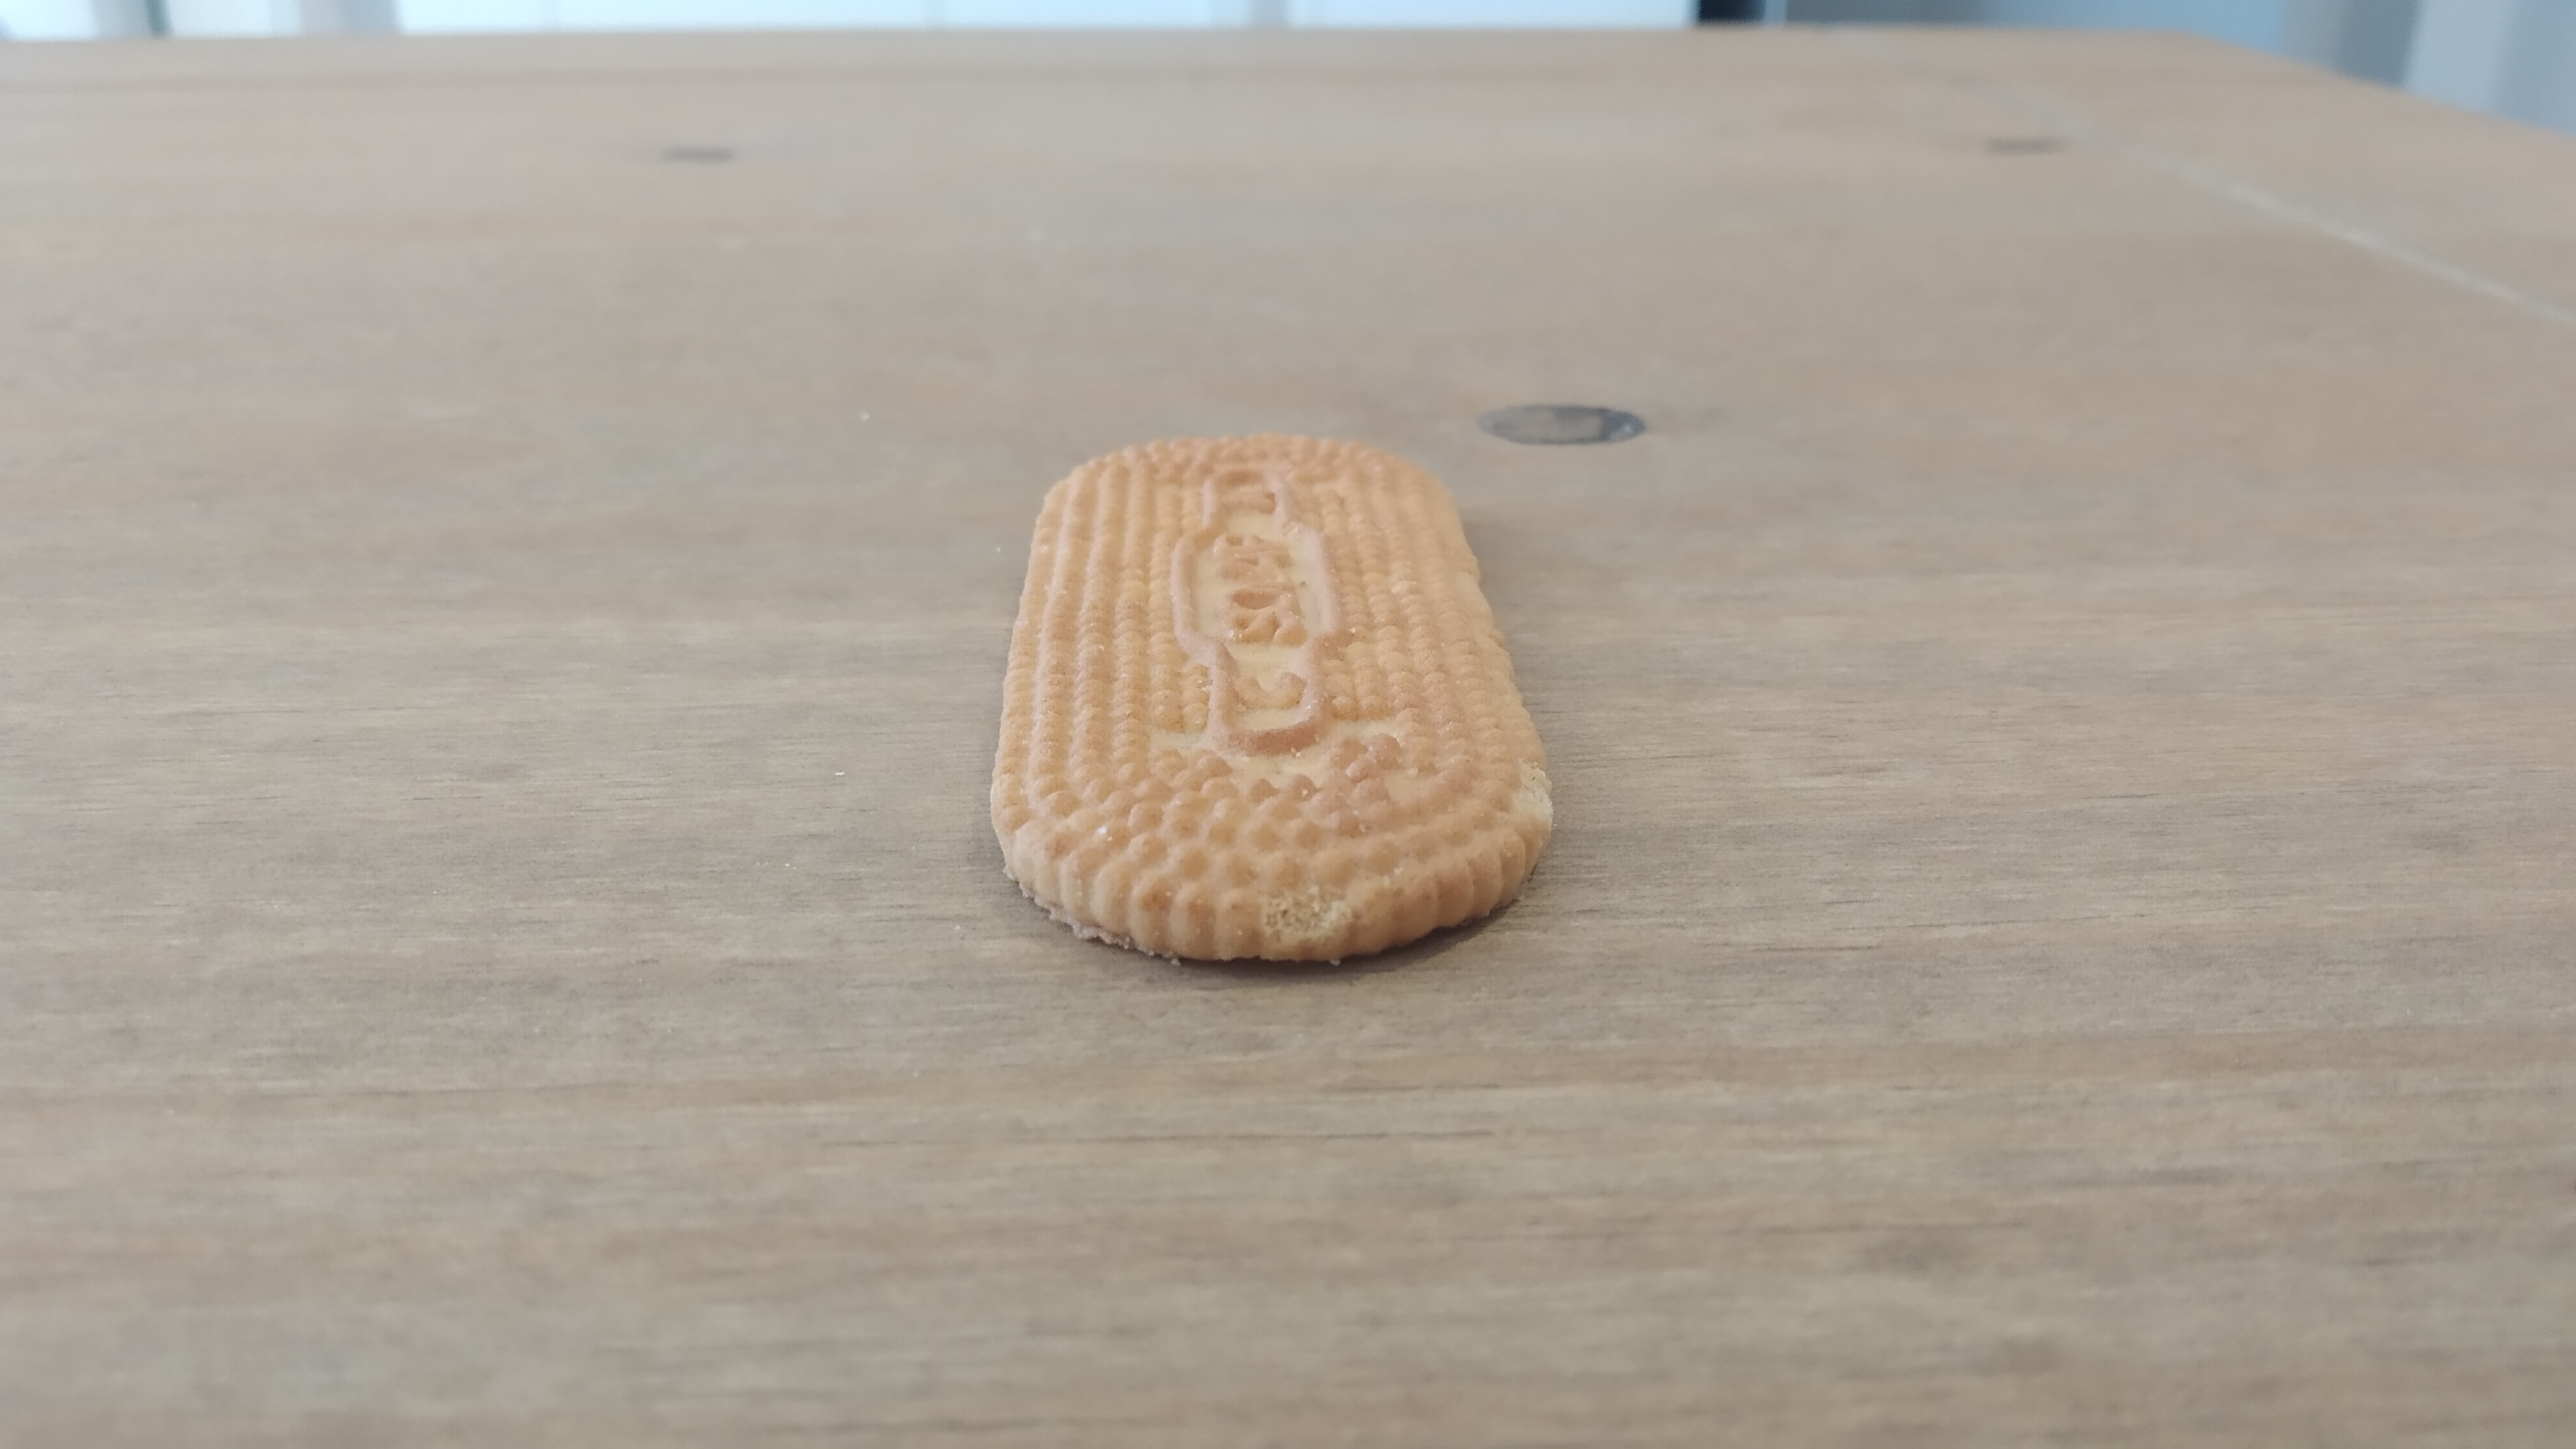solar: (991, 432, 1553, 962)
